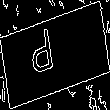P_S: (40, 26, 70, 84)
